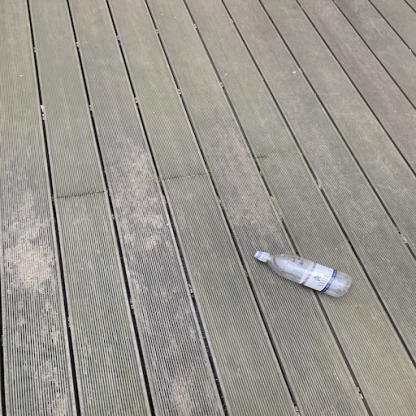trash: (254, 252, 354, 300)
